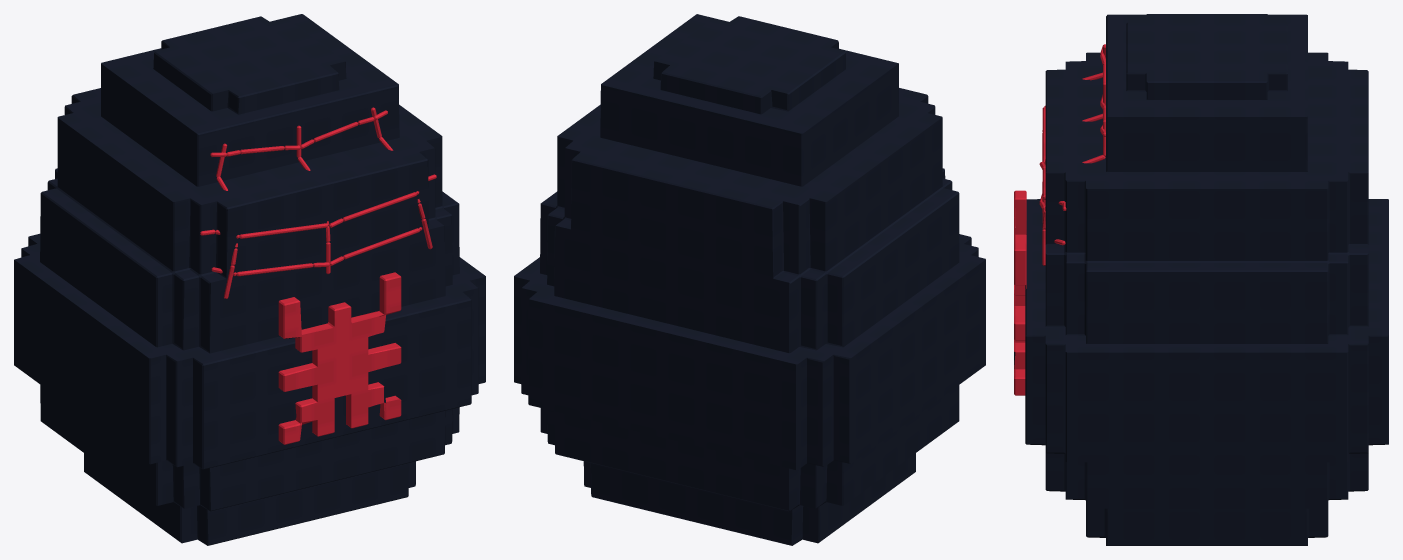
The model's file is MilesMorales_Egg.fbx.
3 views of the same model, side by side, from view 1: azimuth 30°, elevation 25°; view 2: azimuth 150°, elevation 25°; view 3: azimuth 270°, elevation 25° (orthographic). The views are drawn at different scales.
Parts seen in each view (by area): view 1: MilesMorales_Egg; view 2: MilesMorales_Egg; view 3: MilesMorales_Egg.
Part boxes in pixels (box(x1,y1,x2,y2)): MilesMorales_Egg: box(14, 14, 485, 545); MilesMorales_Egg: box(514, 14, 985, 545); MilesMorales_Egg: box(1014, 14, 1388, 545).
Bounding box in the file's own units: 267 × 320 × 247.
Materials: 2 (2 with a texture image).
